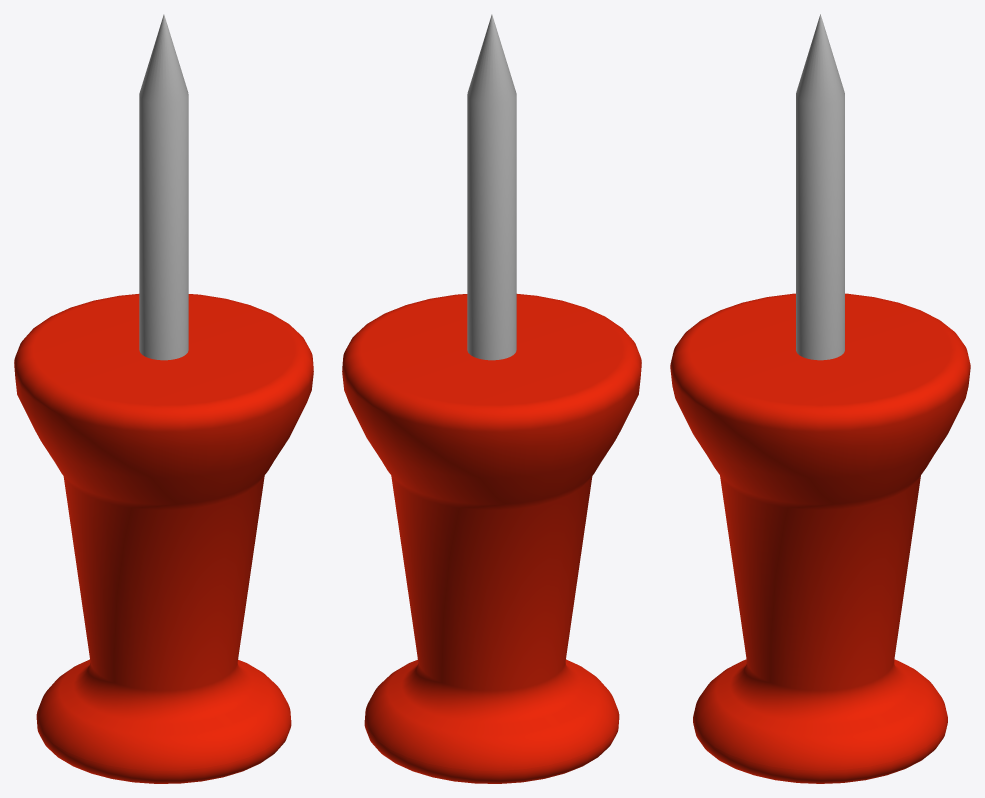
Rendered from pin.gltf.
3 renders of one model, left to right at view 1: azimuth 30°, elevation 25°; view 2: azimuth 150°, elevation 25°; view 3: azimuth 270°, elevation 25°, orthographic.
Parts seen in each view (by area): view 1: Circle, Circle.001; view 2: Circle, Circle.001; view 3: Circle, Circle.001.
Part boxes in pixels (x1,y1,x2,y2): Circle: (14, 294, 313, 783); Circle.001: (139, 14, 188, 360); Circle: (342, 294, 641, 783); Circle.001: (467, 14, 516, 360); Circle: (670, 293, 970, 783); Circle.001: (796, 14, 844, 360).
Size of the model in its own units: 2.3 by 6.09 by 2.3.
